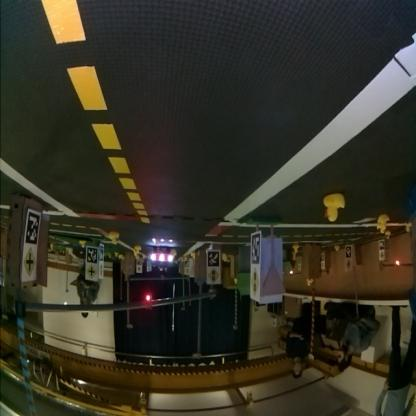Duckie: (324, 195, 346, 221), (378, 216, 390, 230), (110, 233, 120, 245), (136, 246, 142, 253)
Duckiebot: (152, 249, 173, 268)
Intersection sign: (24, 250, 38, 280), (87, 264, 98, 282)
QR code: (26, 215, 41, 246), (253, 234, 260, 265), (208, 251, 220, 266), (87, 248, 98, 264)
Signal sign: (252, 270, 260, 300), (210, 270, 221, 284)
Traffic light: (145, 294, 151, 302)
